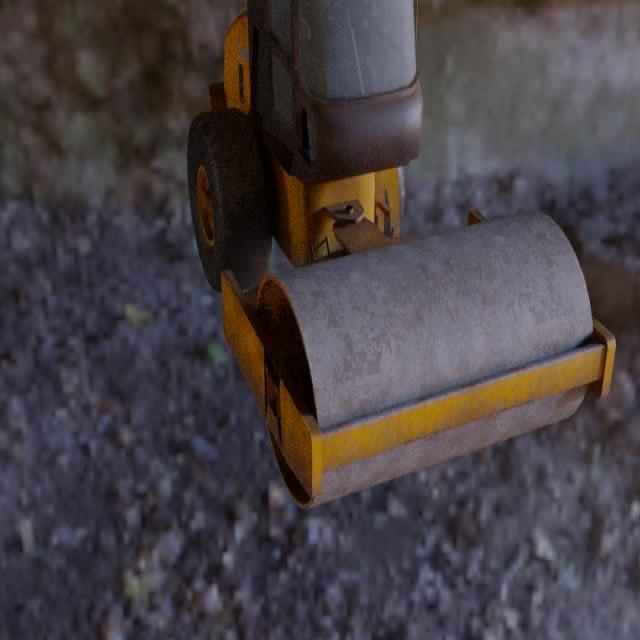Roller: (186, 0, 616, 511)
